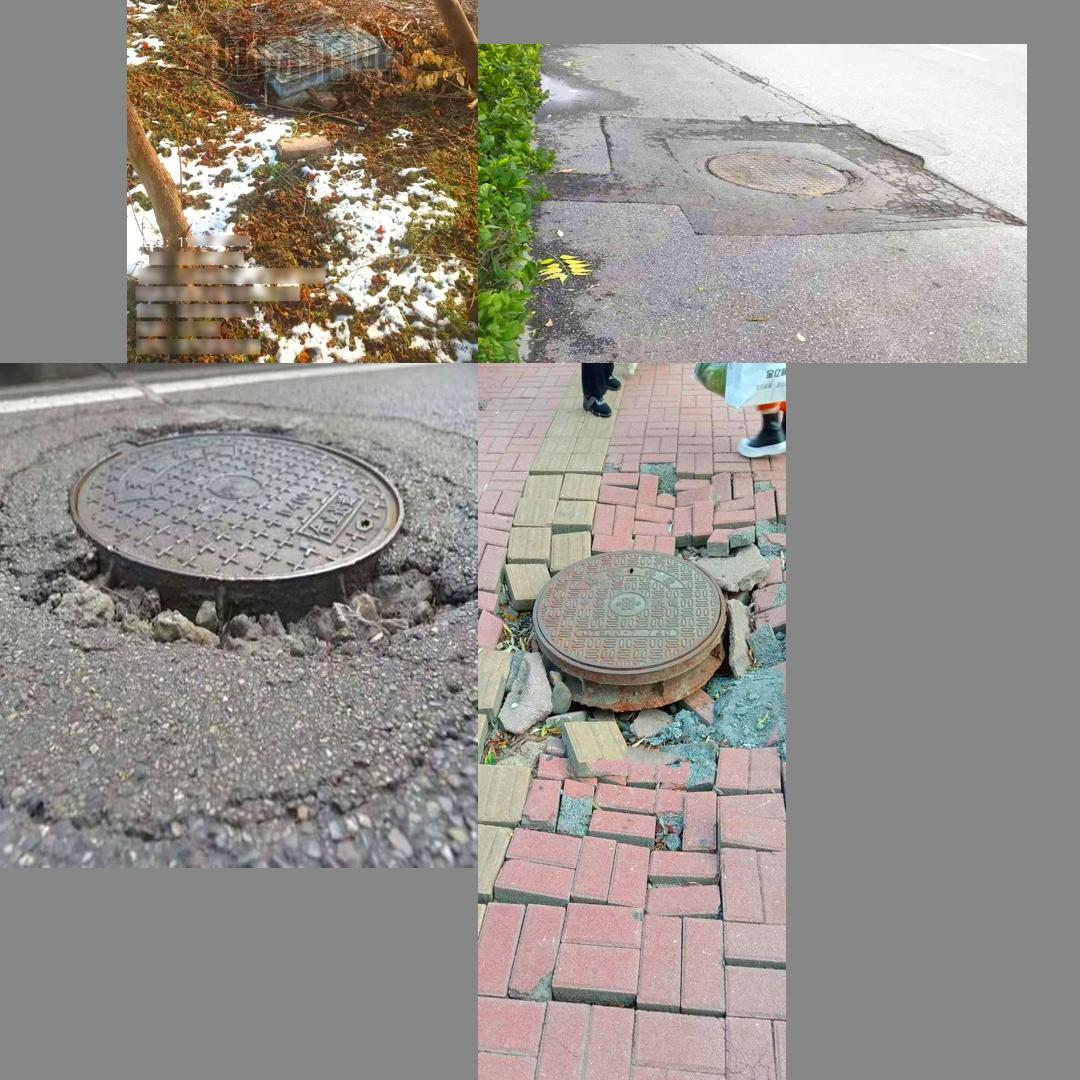circle: (0, 412, 468, 684), (484, 481, 782, 861), (611, 129, 958, 232), (213, 0, 395, 102)
